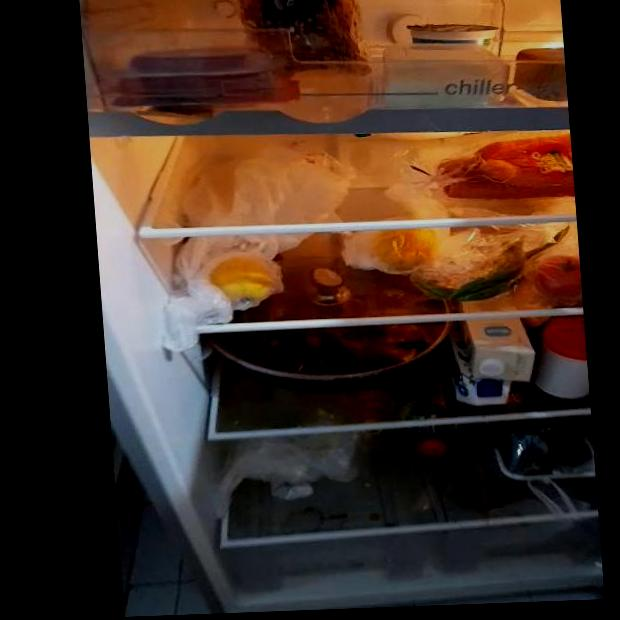bread: (230, 0, 370, 75)
broccoli: (493, 421, 593, 480)
butter: (516, 46, 567, 101)
carrot: (430, 142, 574, 203)
cheese: (376, 46, 508, 107)
green chilies: (416, 262, 533, 305)
lemon: (211, 249, 282, 305), (372, 227, 440, 271)
milk: (446, 318, 537, 405)
salami: (122, 37, 267, 81)
tomato: (526, 254, 583, 299)
yoghurt: (407, 18, 500, 52)
